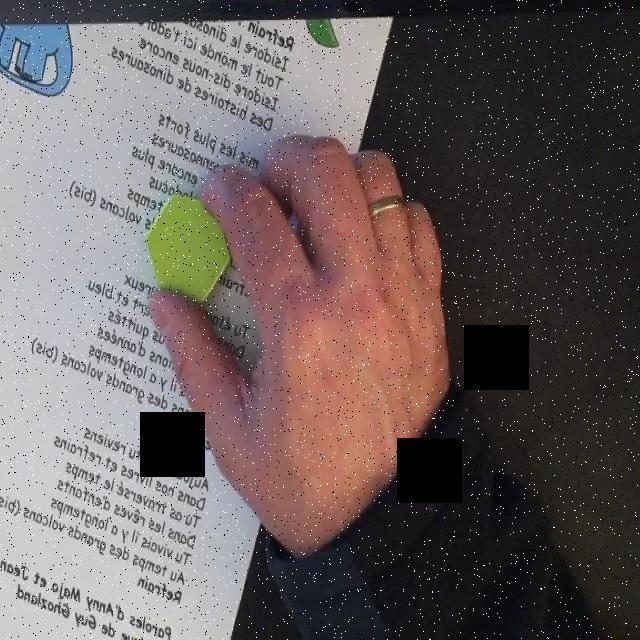hexagon: (146, 193, 230, 304)
